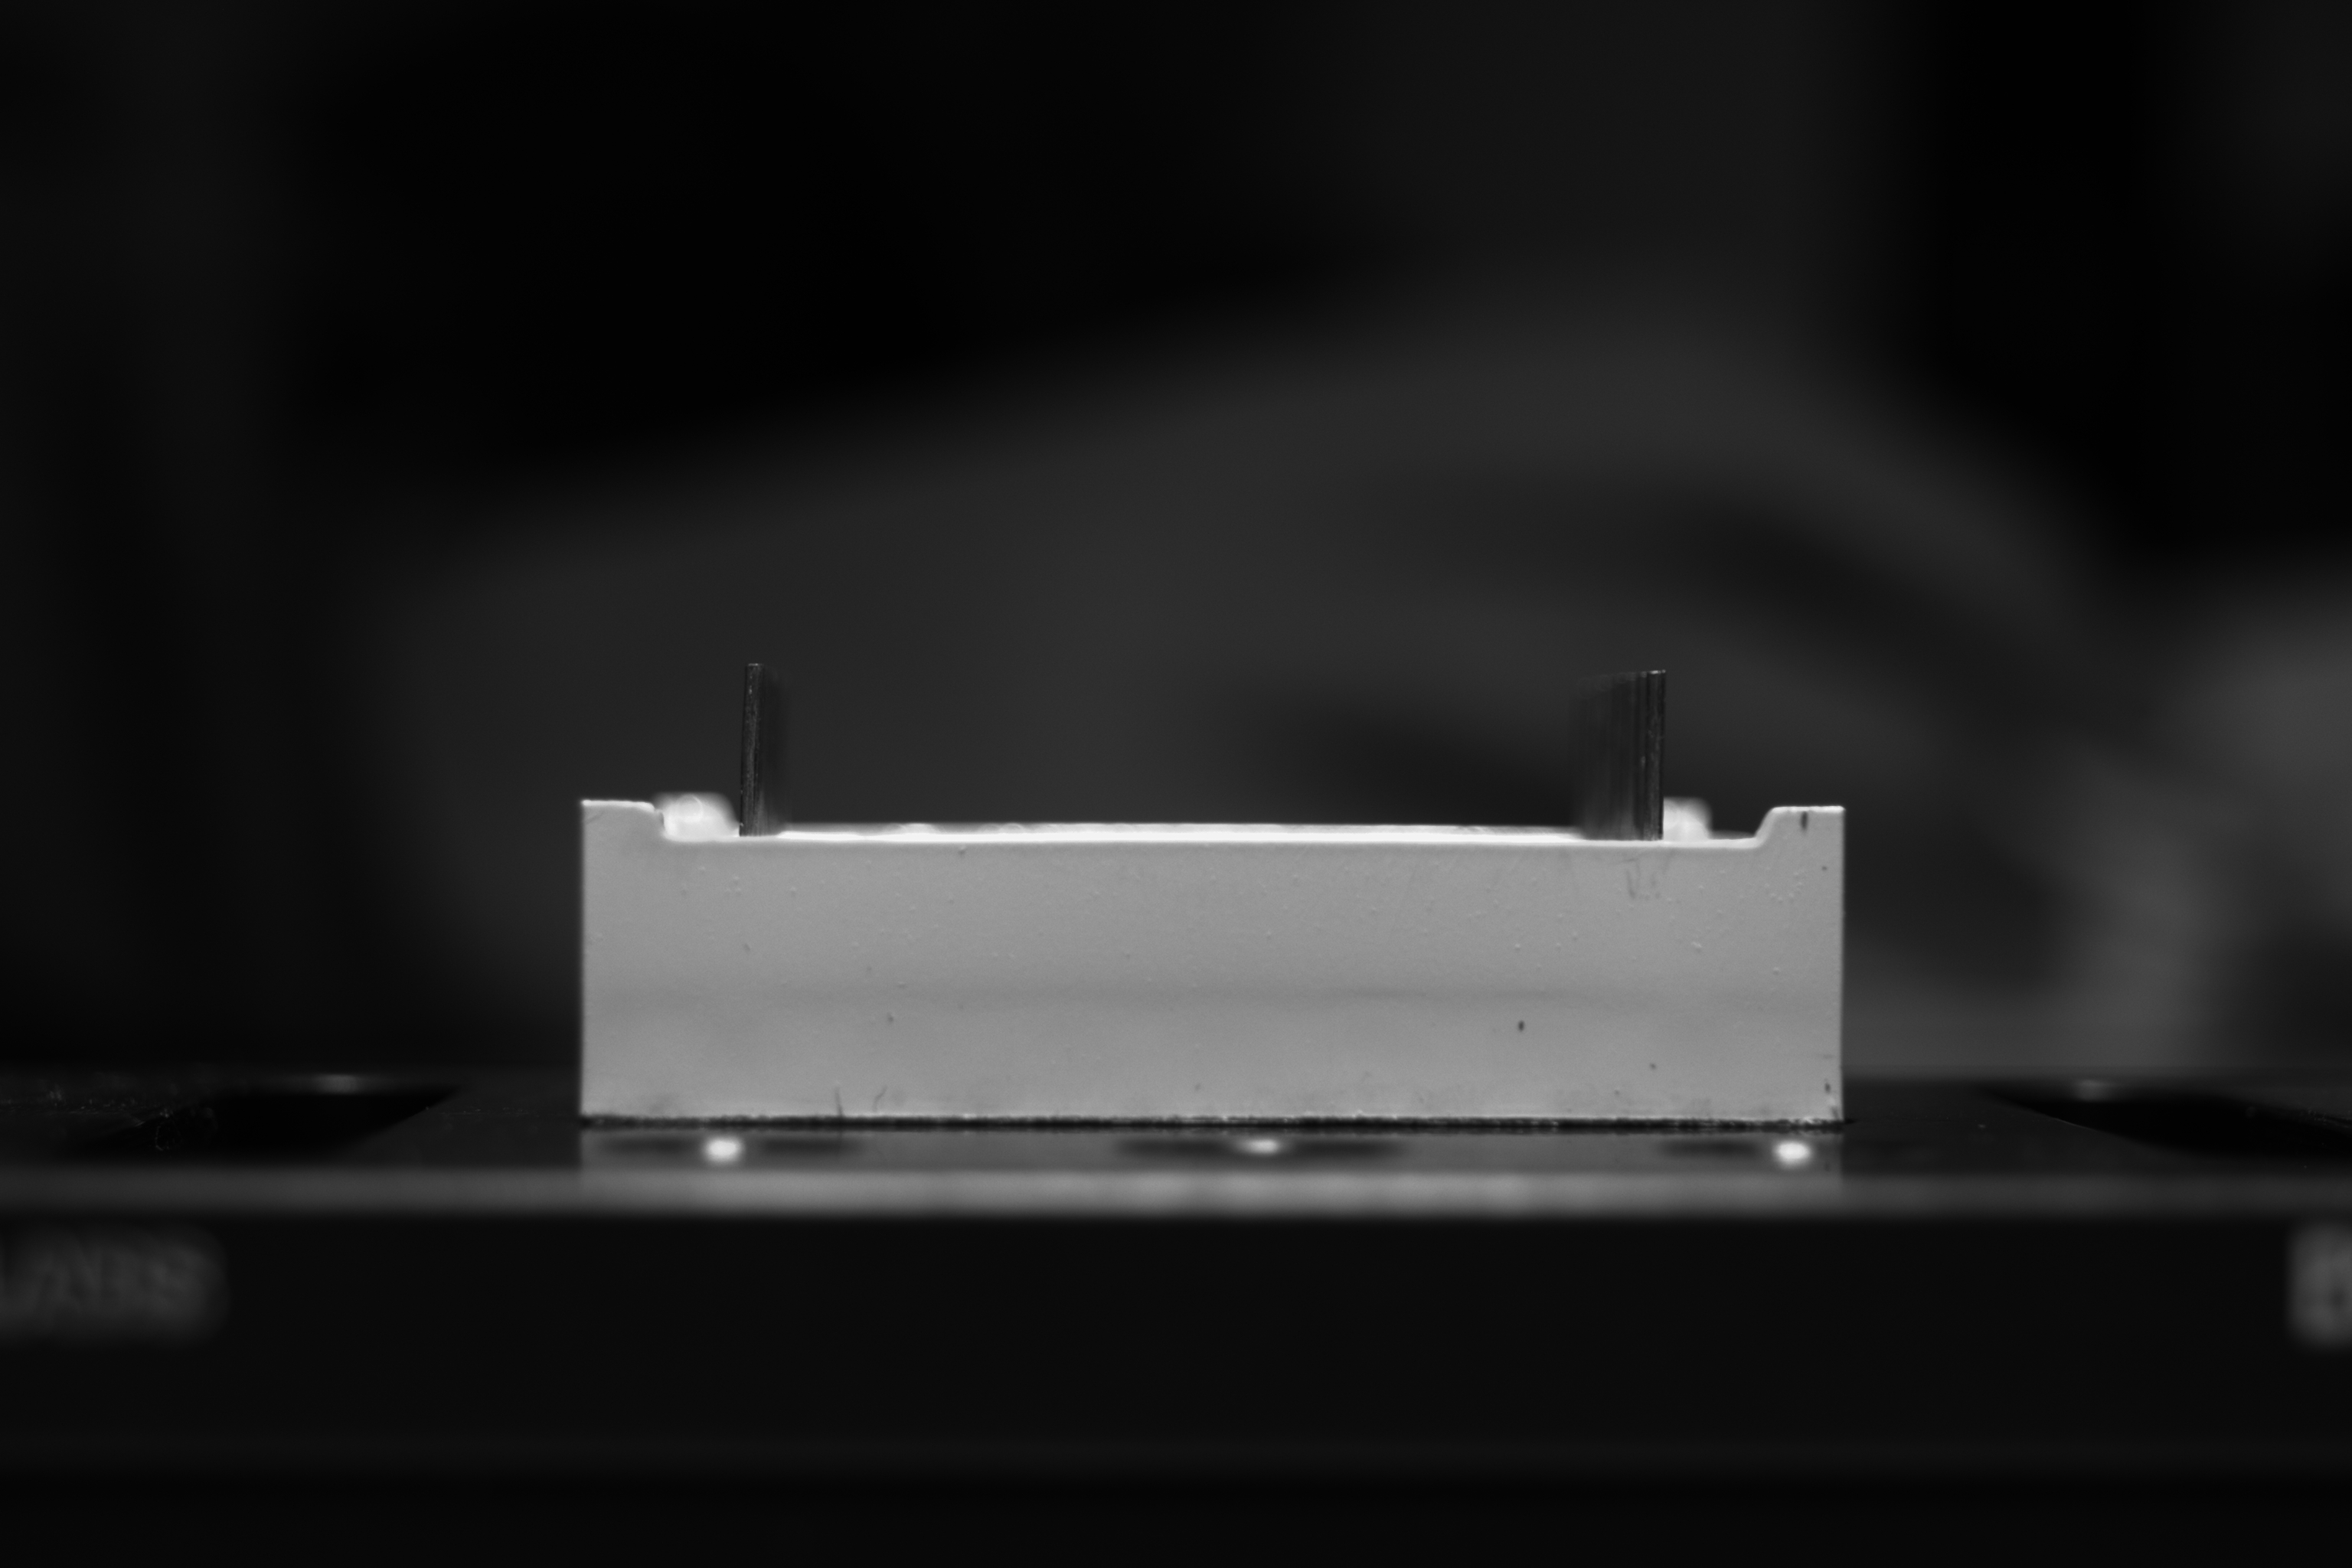Component: (574, 658, 1853, 1130)
